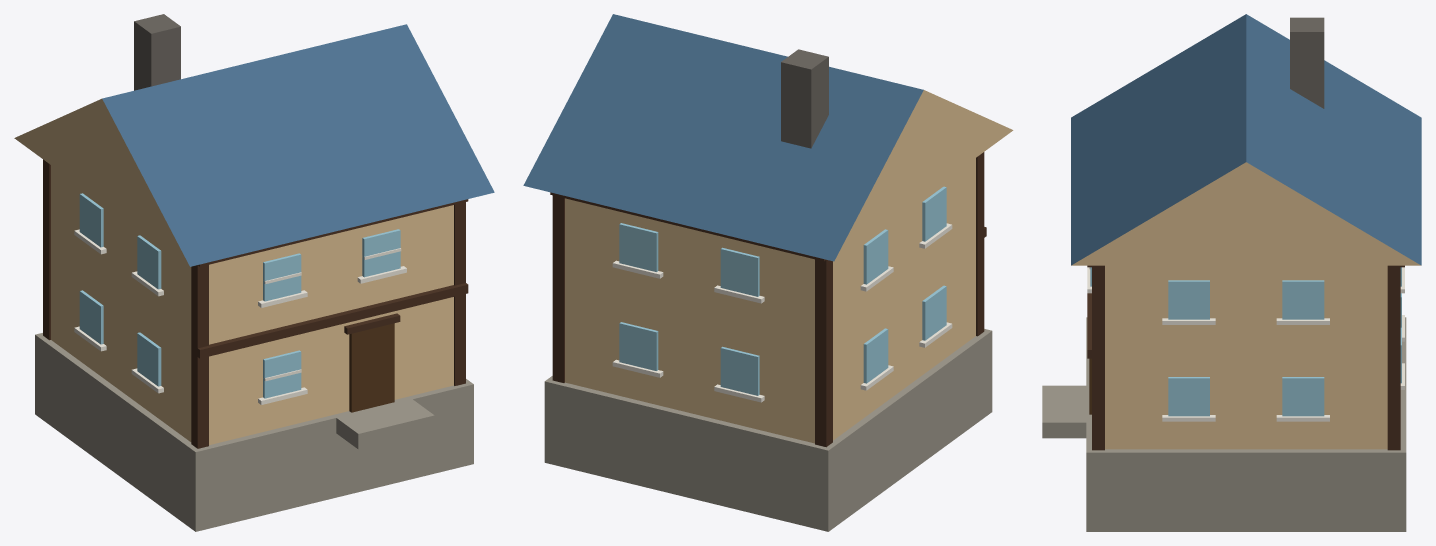
Rendered from house_b.glb.
3 views of the same model, side by side, from view 1: azimuth 30°, elevation 25°; view 2: azimuth 150°, elevation 25°; view 3: azimuth 270°, elevation 25° (orthographic). The views are drawn at different scales.
Parts seen in each view (by area): view 1: house_b-col; view 2: house_b-col; view 3: house_b-col.
Boxes of the visible parts, box(x1,y1,x2,y2) form: house_b-col: box(14, 14, 494, 531); house_b-col: box(523, 14, 1013, 531); house_b-col: box(1042, 14, 1421, 531).
Bounding box in the file's own units: 9.2 × 11.8 × 9.95.
